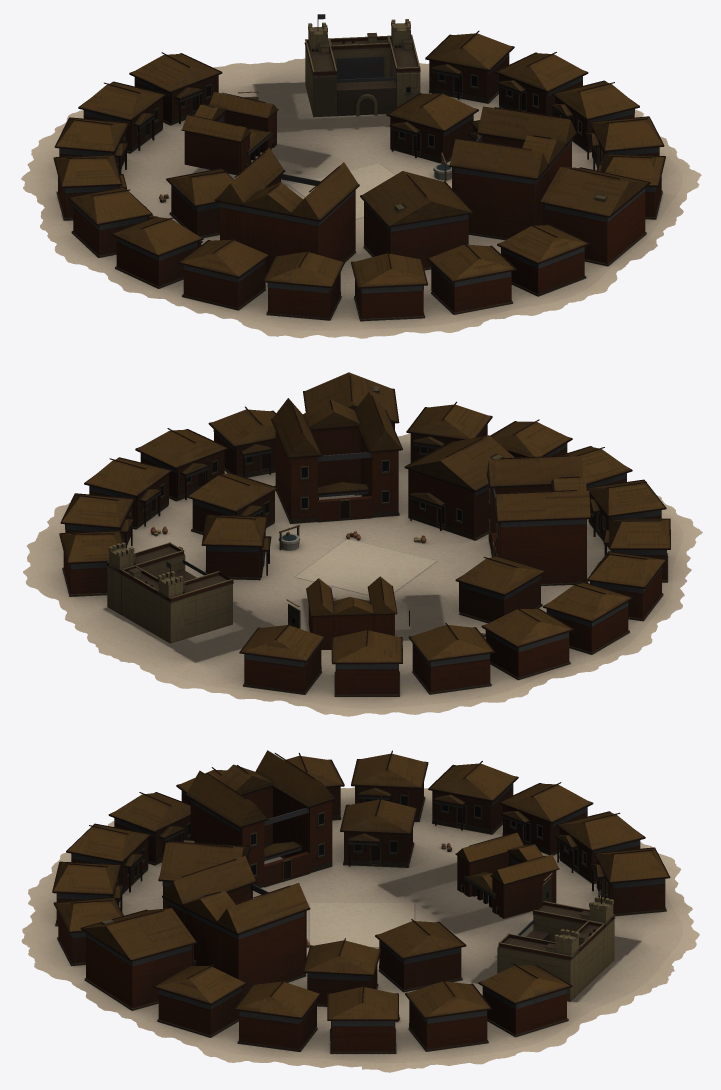
The model's file is gunpowder-town-big-b-westafrica.glb.
3 renders of one model, top to bottom at view 1: azimuth 30°, elevation 25°; view 2: azimuth 150°, elevation 25°; view 3: azimuth 270°, elevation 25°, orthographic.
Parts seen in each view (by area): view 1: LOD0; view 2: LOD0; view 3: LOD0.
Part boxes in pixels (x1,y1,x2,y2): LOD0: (21,14,701,338); LOD0: (23,372,702,716); LOD0: (21,750,699,1072).
Size of what is drawn, in the model's own units: 7.95 by 1.16 by 7.93.
3 materials, 3 textured.
